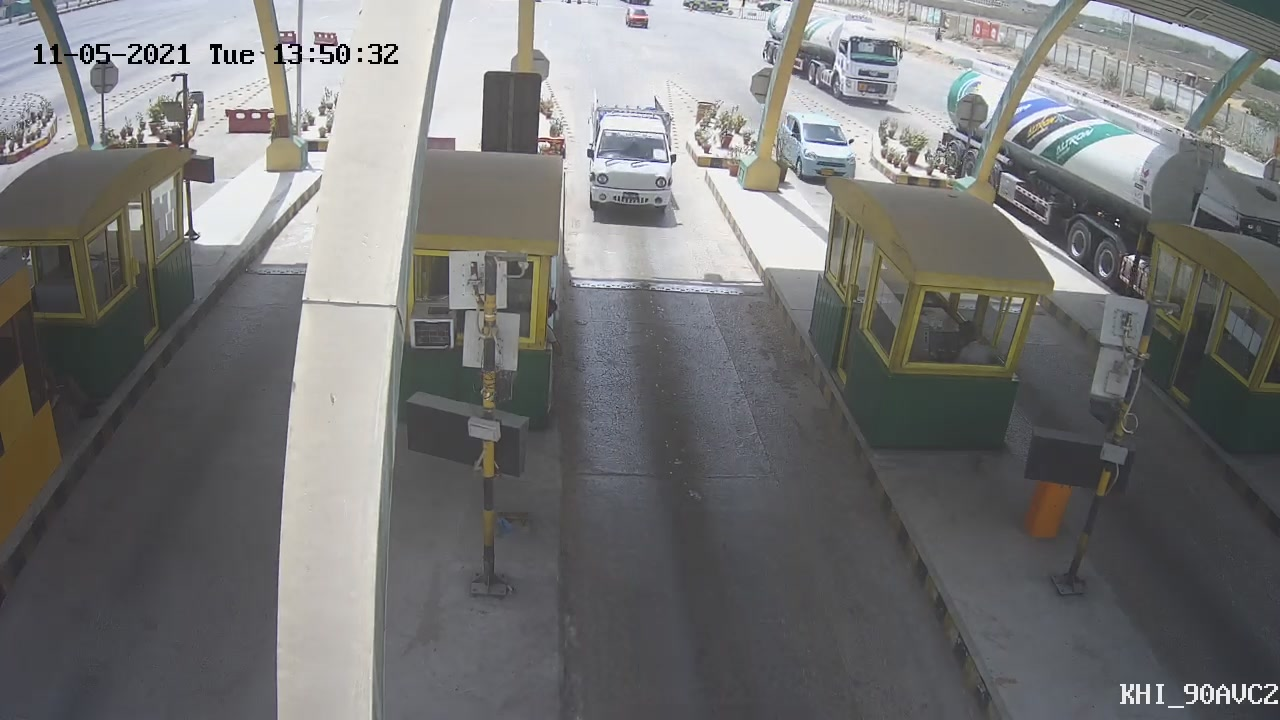F2: (582, 85, 683, 229)
